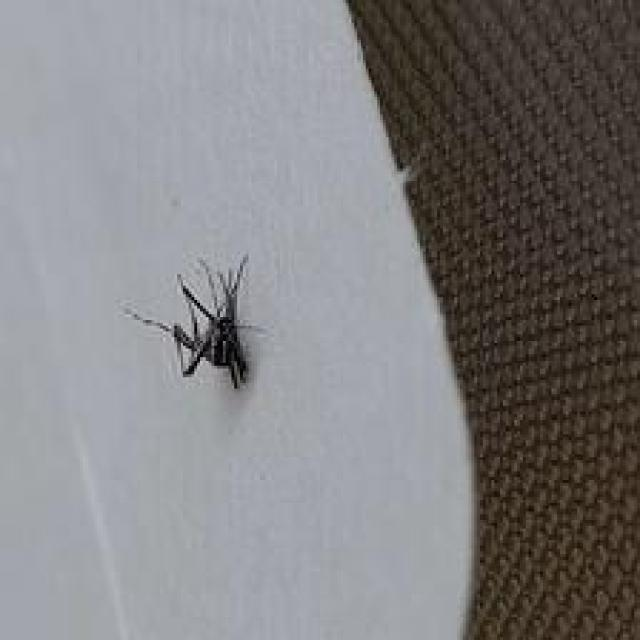Aedes albopictus: (123, 252, 266, 392)
